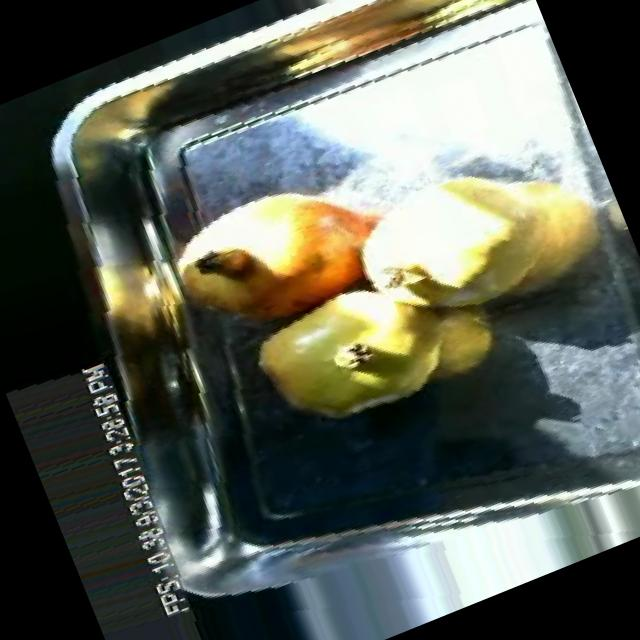fruit: (322, 130, 575, 364), (218, 246, 484, 468), (147, 150, 400, 368)
